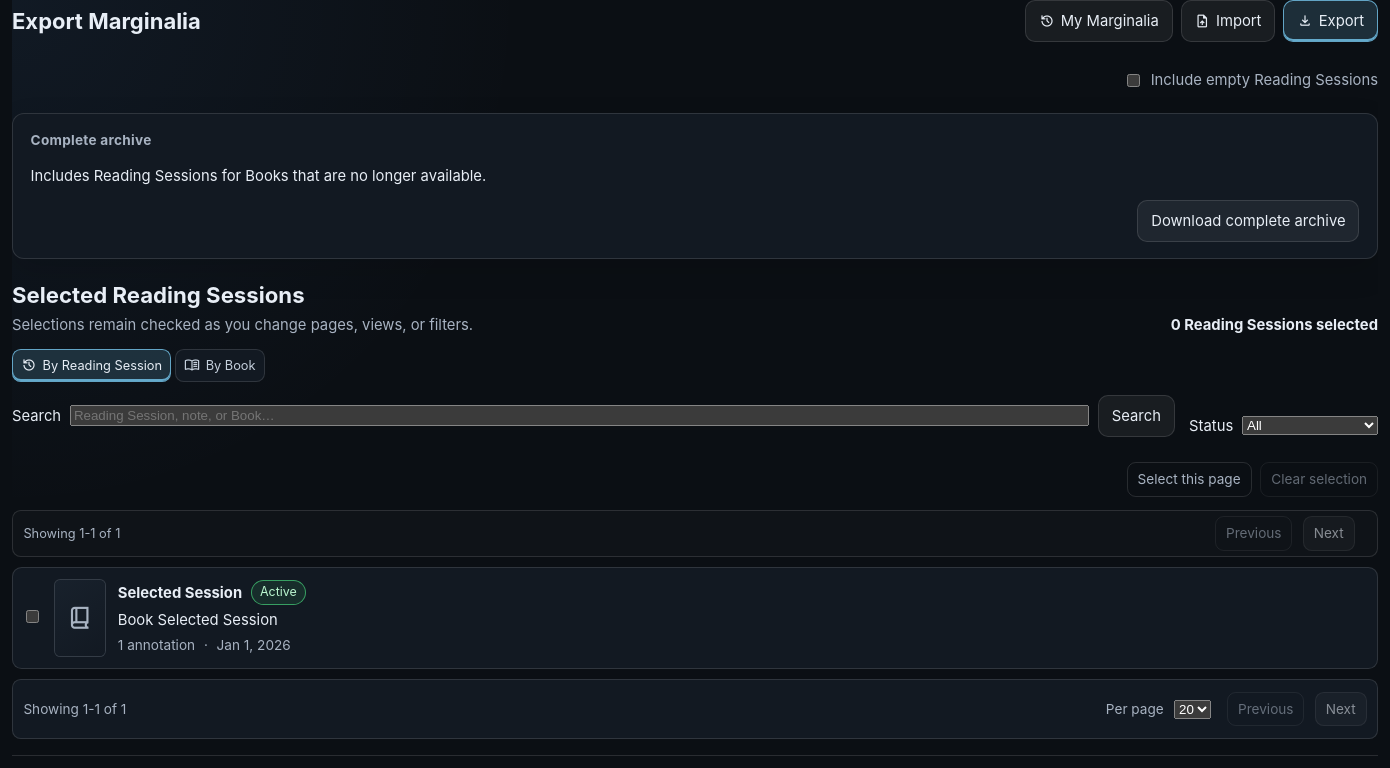
Test case: MarginaliaExportOrchestrator › exports only selected Sessions and preserves selection after download failure
What coordinates should you click on to do the following:
click the checkbox named "Select Selected Session for Book Selected Session"
I would click on:
 (32, 616)
Its box is [26,610,39,623].
(page scrolled)
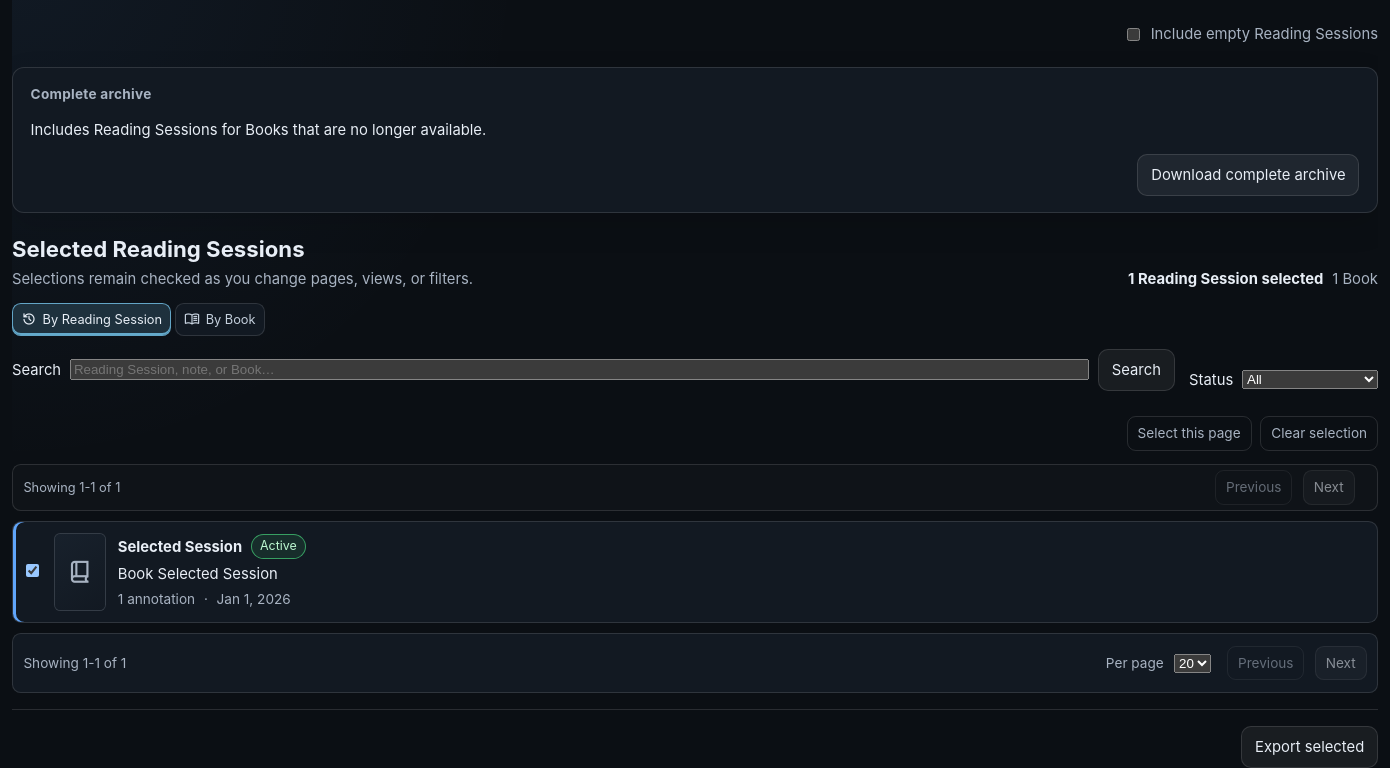
What coordinates should you click on to do the following:
click the button "Export selected"
I would click on:
 (1310, 747)
Its box is [1241,726,1378,767].
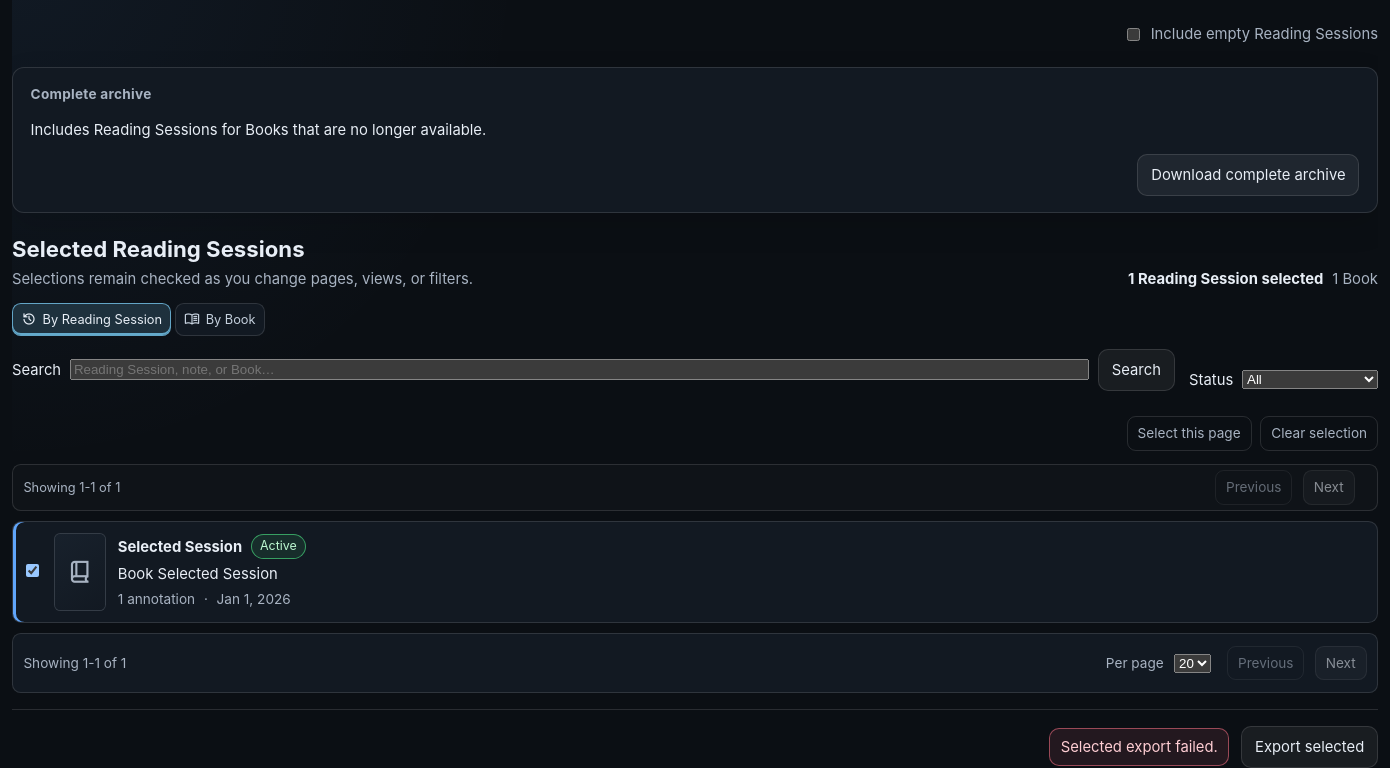
Expected: the checkbox named "Select Selected Session for Book Selected Session" is checked, [26,564,39,577]
Expected: the message "Selected export failed." is shown, [1049,728,1229,766]
